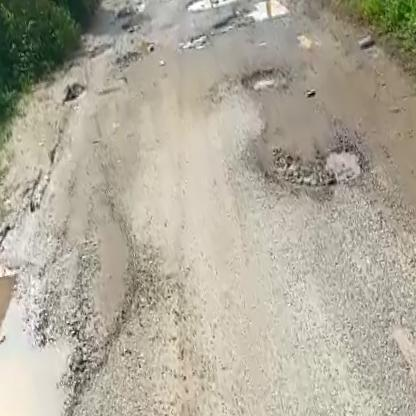pothole: (272, 131, 374, 204), (239, 0, 301, 25), (240, 65, 287, 94), (183, 0, 237, 15)
